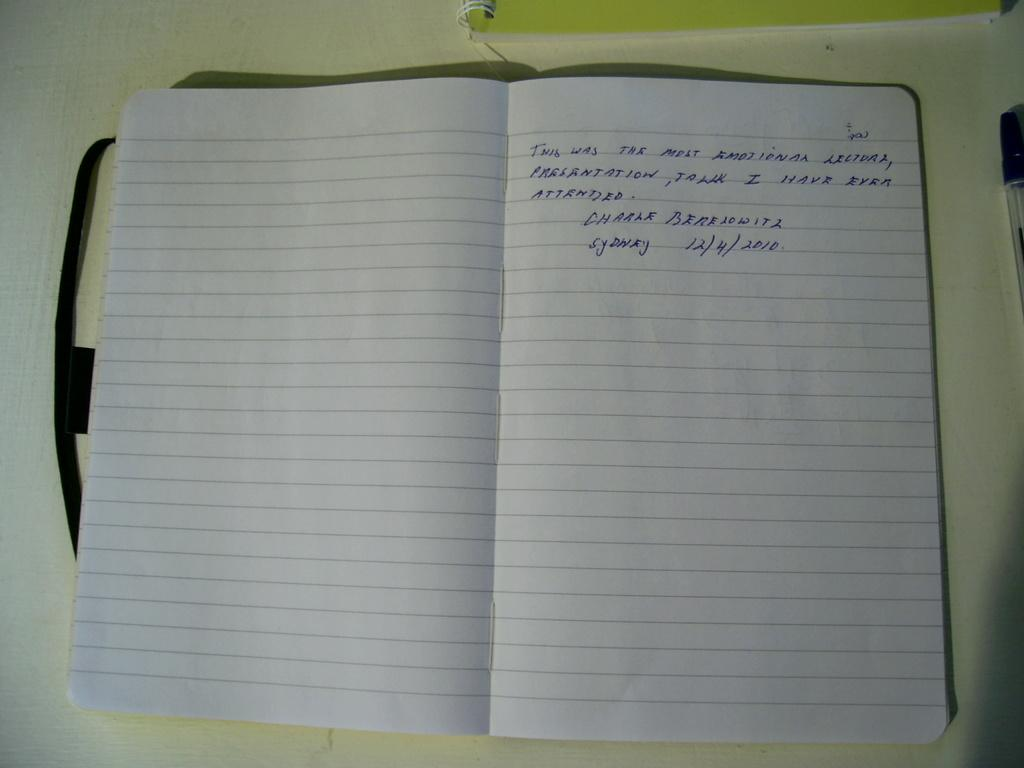book: (75, 74, 964, 743)
